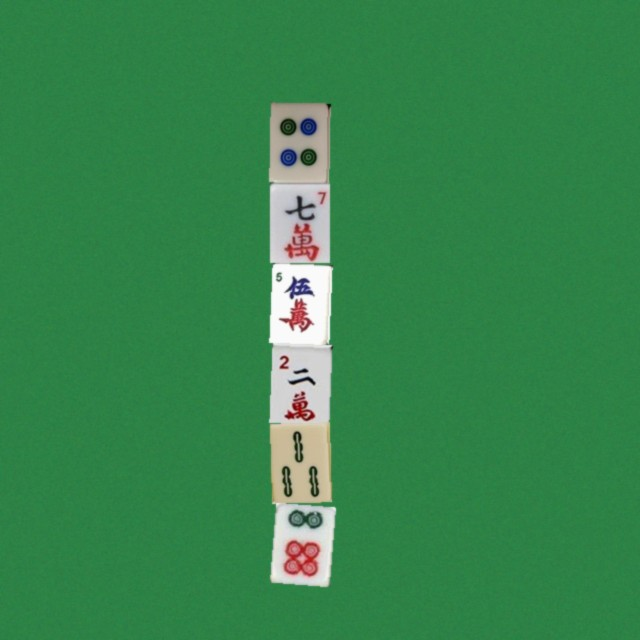tile: (269, 102, 329, 182), (269, 182, 329, 262), (269, 262, 329, 342), (269, 342, 329, 422), (269, 422, 329, 502), (269, 502, 329, 582)
